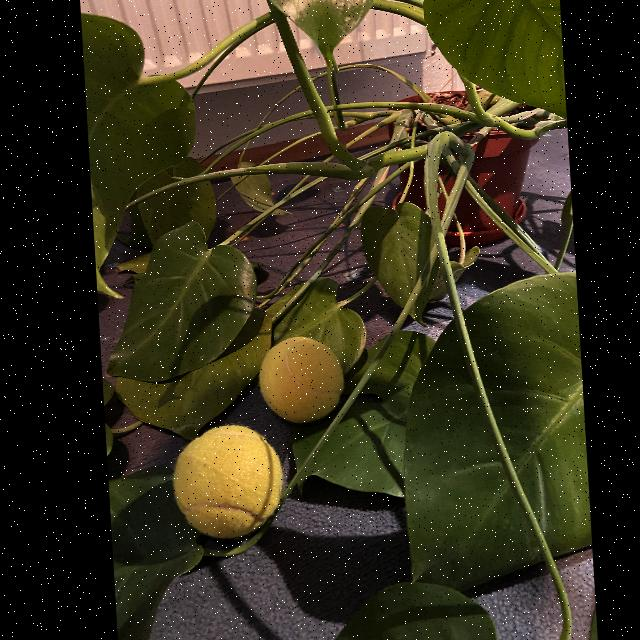Tennisball: (173, 425, 283, 539), (259, 337, 344, 423)
